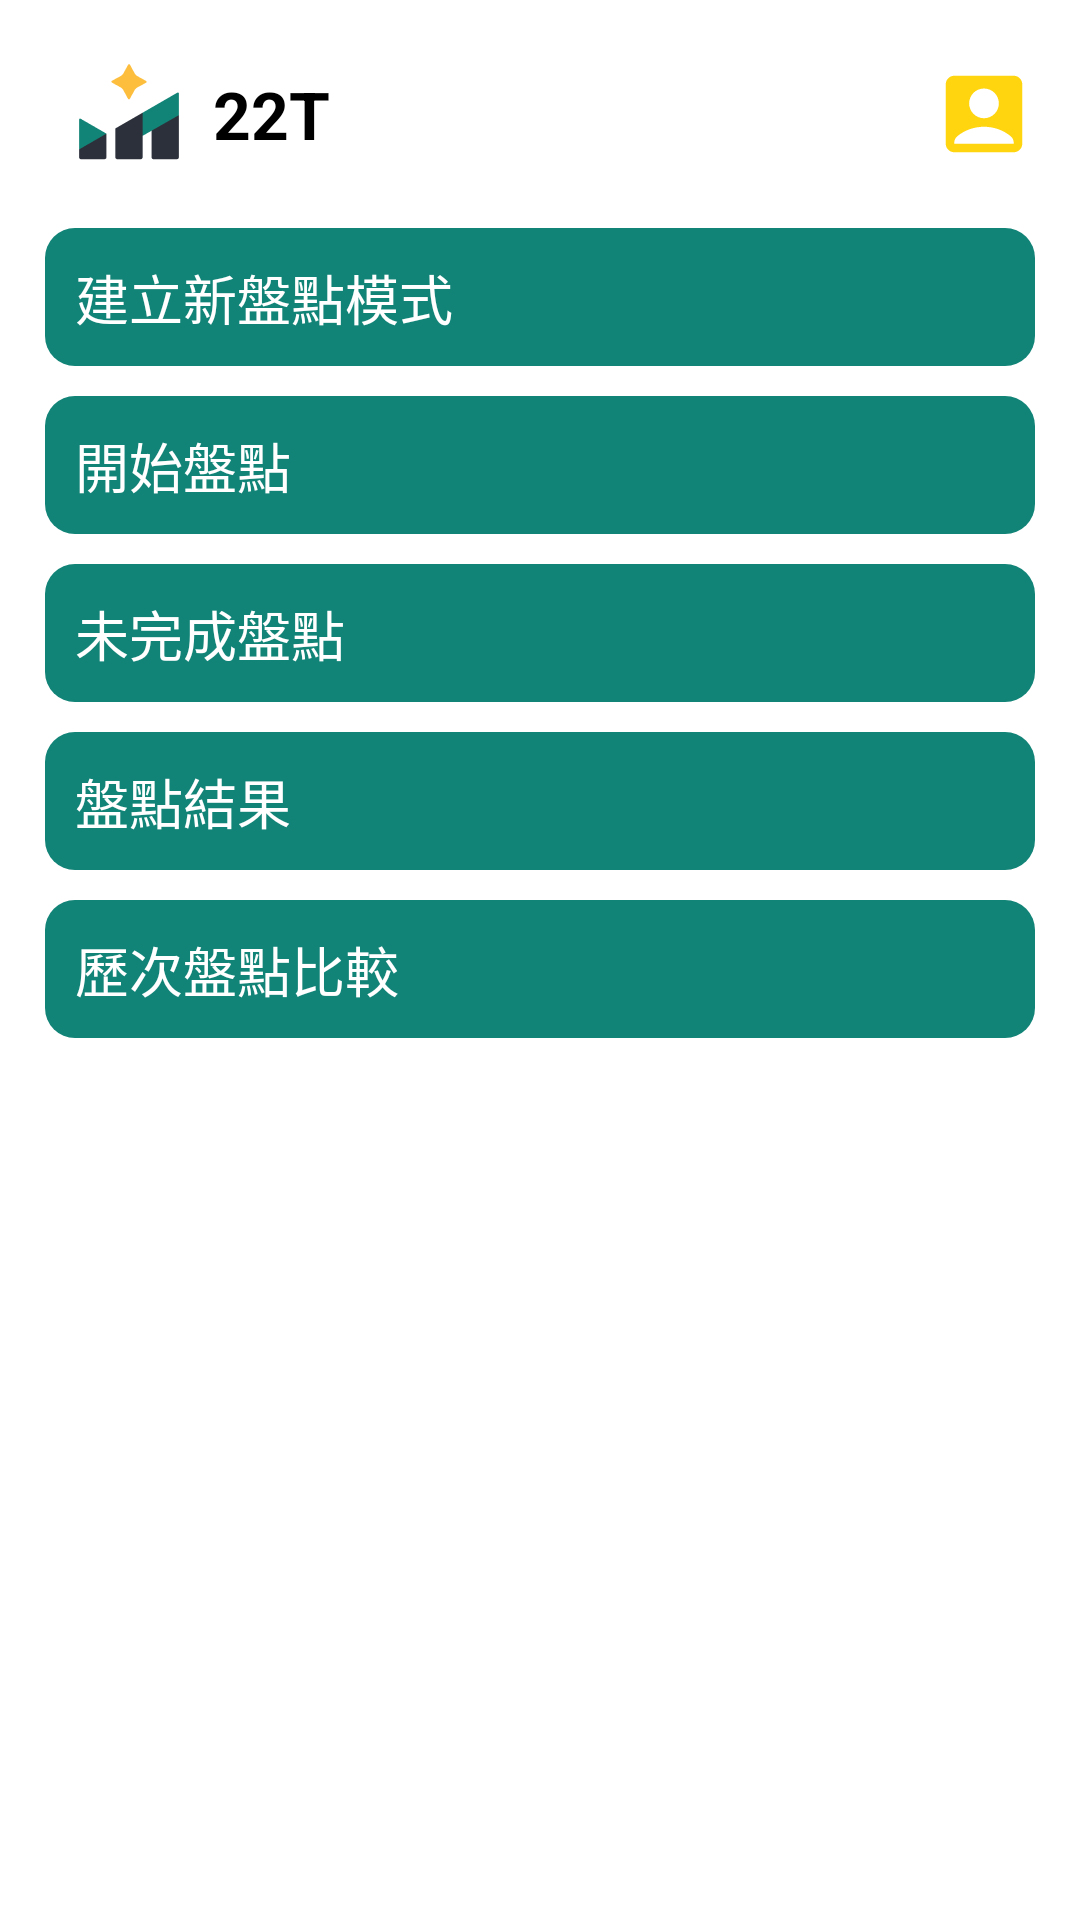

Icons on this 1080×1920 Android screen, each with its box as {"left": x1, "top": y1, "right": x2, "bottom": y2}:
account box: {"left": 945, "top": 75, "right": 1023, "bottom": 153}
